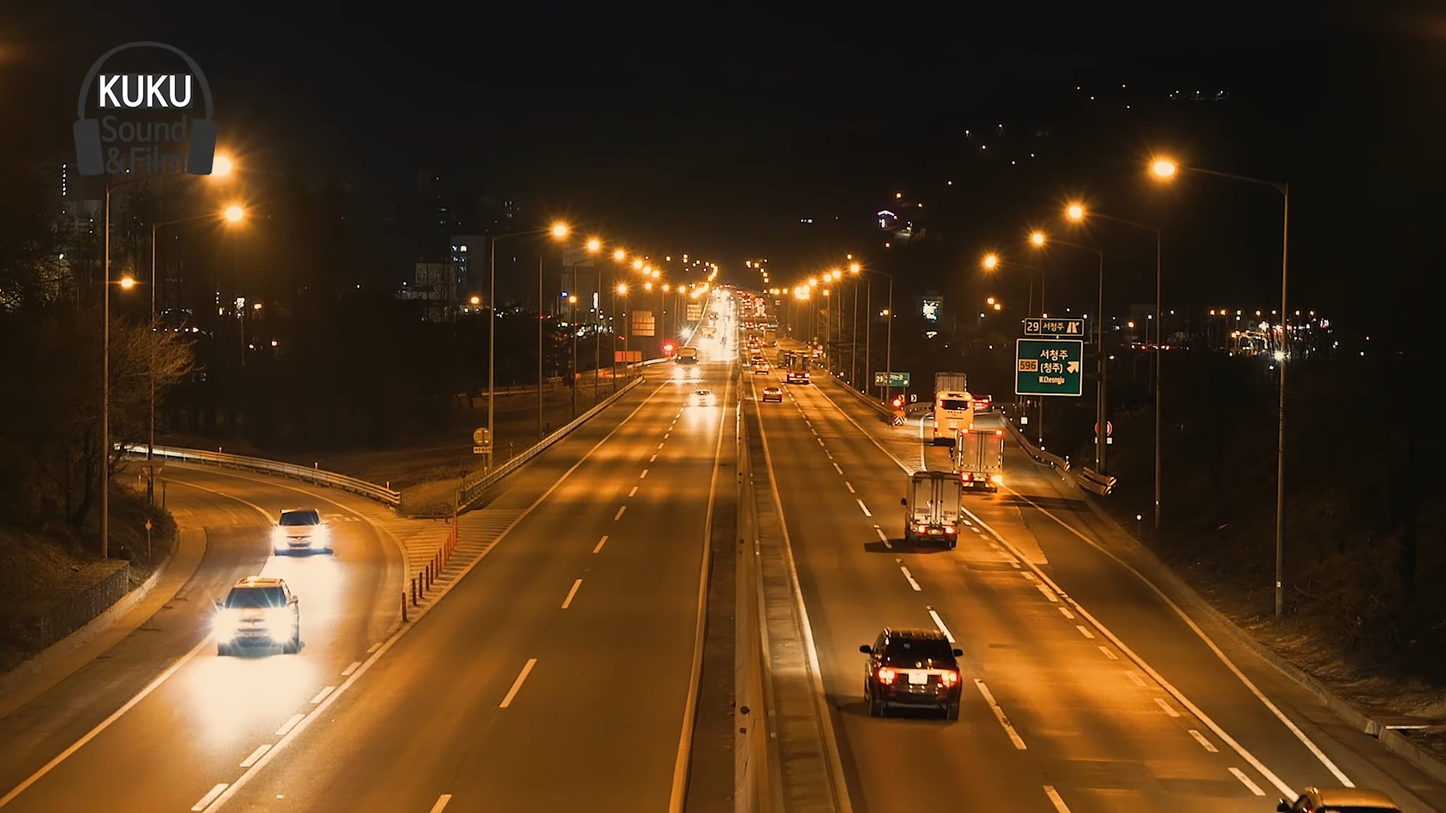car: (865, 620, 969, 721), (210, 576, 302, 656), (270, 503, 326, 556)
truck: (902, 466, 970, 549), (952, 420, 1007, 495)
